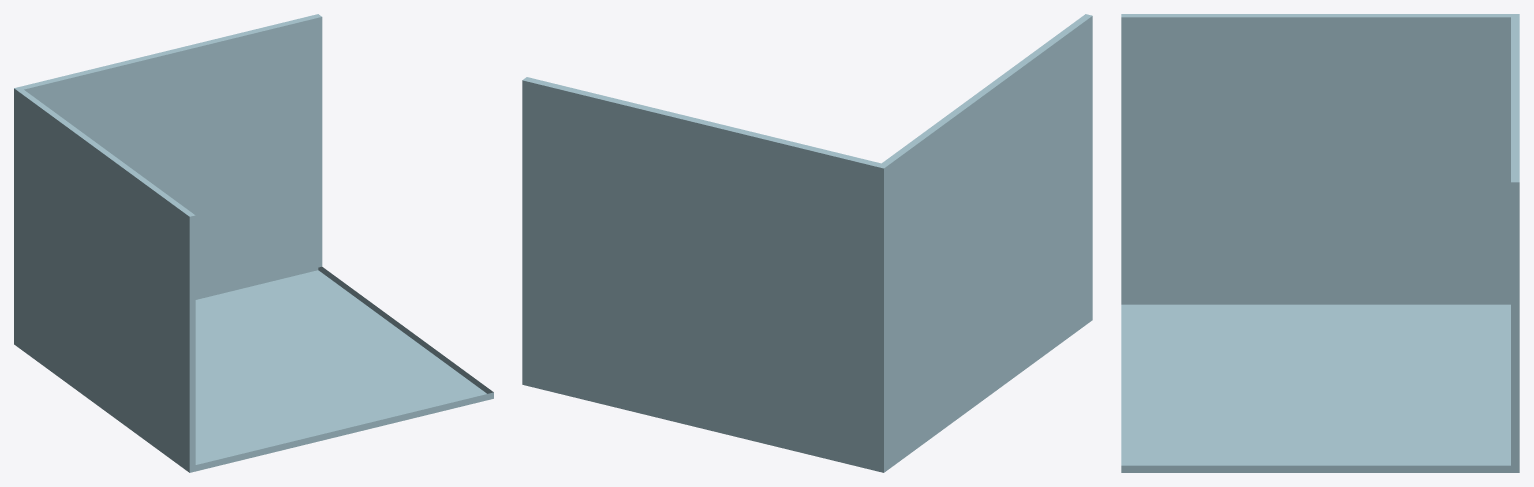
Rendered from Kitchen_Base.fbx.
3 views of the same model, side by side, from view 1: azimuth 30°, elevation 25°; view 2: azimuth 150°, elevation 25°; view 3: azimuth 270°, elevation 25° (orthographic). The views are drawn at different scales.
Parts seen in each view (by area): view 1: Kitchen_Base; view 2: Kitchen_Base; view 3: Kitchen_Base.
Boxes of the visible parts, bbox=[...] form: Kitchen_Base: bbox=[14, 14, 493, 472]; Kitchen_Base: bbox=[522, 14, 1092, 472]; Kitchen_Base: bbox=[1121, 14, 1519, 472].
Size of the model in its own units: 500 by 402 by 500.
